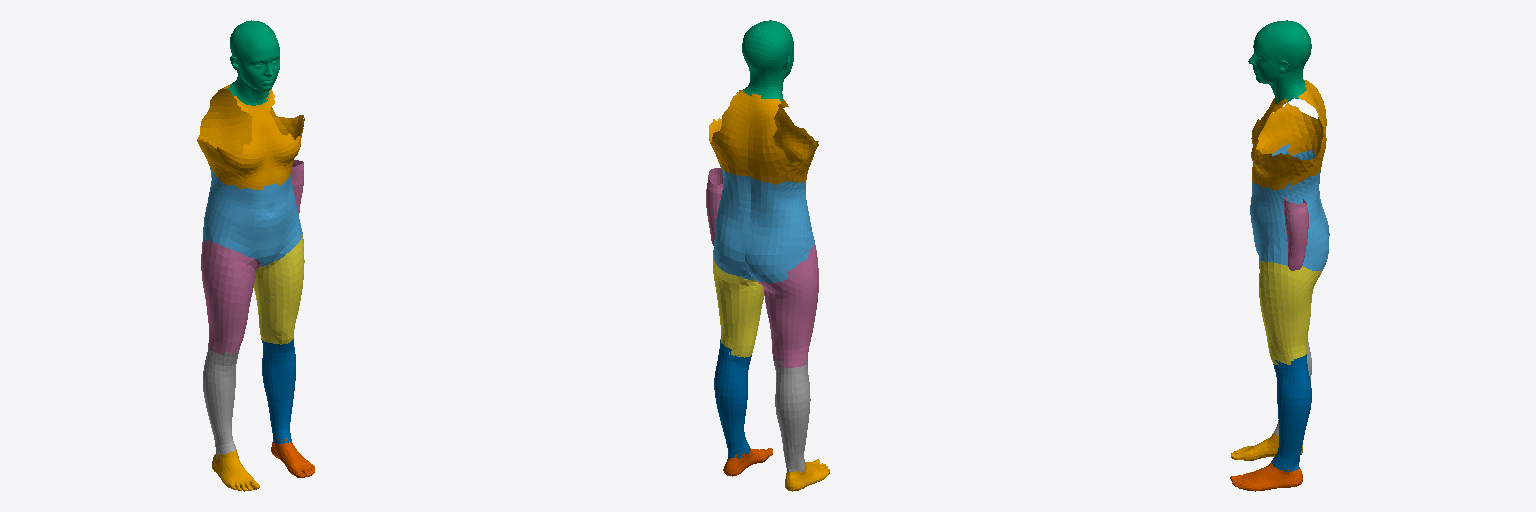
robot.urdf — soma_arms:
<robot name="soma_arms">
  <link name="Chest"><visual><geometry><mesh filename="meshes/Chest.obj"/></geometry></visual><collision><geometry><mesh filename="meshes/Chest.obj"/></geometry></collision></link>
  <link name="Abdomen"><visual><geometry><mesh filename="meshes/Abdomen.obj"/></geometry></visual><collision><geometry><mesh filename="meshes/Abdomen.obj"/></geometry></collision></link>
  <joint name="Chest_to_Abdomen" type="fixed"><parent link="Chest"/><child link="Abdomen"/><origin xyz="-0.000000 -0.008090 -0.144634" rpy="0.000000 0.000000 0.000000"/></joint>
  <link name="Head"><visual><geometry><mesh filename="meshes/Head.obj"/></geometry></visual><collision><geometry><mesh filename="meshes/Head.obj"/></geometry></collision></link>
  <joint name="Chest_to_Head" type="fixed"><parent link="Chest"/><child link="Head"/><origin xyz="-0.000182 0.006136 0.255394" rpy="0.000000 0.000000 0.000000"/></joint>
  <link name="LeftThigh"><visual><geometry><mesh filename="meshes/LeftThigh.obj"/></geometry></visual><collision><geometry><mesh filename="meshes/LeftThigh.obj"/></geometry></collision></link>
  <joint name="Chest_to_LeftThigh" type="fixed"><parent link="Chest"/><child link="LeftThigh"/><origin xyz="0.112505 -0.030271 -0.278192" rpy="0.000000 0.000000 0.000000"/></joint>
  <link name="LeftShin"><visual><geometry><mesh filename="meshes/LeftShin.obj"/></geometry></visual><collision><geometry><mesh filename="meshes/LeftShin.obj"/></geometry></collision></link>
  <joint name="Chest_to_LeftShin" type="fixed"><parent link="Chest"/><child link="LeftShin"/><origin xyz="0.112505 -0.030271 -0.685606" rpy="0.000000 0.000000 0.000000"/></joint>
  <link name="LeftFoot"><visual><geometry><mesh filename="meshes/LeftFoot.obj"/></geometry></visual><collision><geometry><mesh filename="meshes/LeftFoot.obj"/></geometry></collision></link>
  <joint name="Chest_to_LeftFoot" type="fixed"><parent link="Chest"/><child link="LeftFoot"/><origin xyz="0.112505 -0.030271 -1.080779" rpy="0.000000 0.000000 0.000000"/></joint>
  <link name="RightThigh"><visual><geometry><mesh filename="meshes/RightThigh.obj"/></geometry></visual><collision><geometry><mesh filename="meshes/RightThigh.obj"/></geometry></collision></link>
  <joint name="Chest_to_RightThigh" type="fixed"><parent link="Chest"/><child link="RightThigh"/><origin xyz="-0.112523 -0.029915 -0.278190" rpy="0.000000 0.000000 0.000000"/></joint>
  <link name="RightShin"><visual><geometry><mesh filename="meshes/RightShin.obj"/></geometry></visual><collision><geometry><mesh filename="meshes/RightShin.obj"/></geometry></collision></link>
  <joint name="Chest_to_RightShin" type="fixed"><parent link="Chest"/><child link="RightShin"/><origin xyz="-0.112523 -0.029915 -0.685605" rpy="0.000000 0.000000 0.000000"/></joint>
  <link name="RightFoot"><visual><geometry><mesh filename="meshes/RightFoot.obj"/></geometry></visual><collision><geometry><mesh filename="meshes/RightFoot.obj"/></geometry></collision></link>
  <joint name="Chest_to_RightFoot" type="fixed"><parent link="Chest"/><child link="RightFoot"/><origin xyz="-0.112523 -0.029915 -1.080774" rpy="0.000000 0.000000 0.000000"/></joint>
  <link name="LeftShoulder"><visual><geometry><mesh filename="meshes/LeftShoulder.obj"/></geometry></visual><collision><geometry><mesh filename="meshes/LeftShoulder.obj"/></geometry></collision></link>
  <joint name="LeftShoulder_fixed" type="fixed"><parent link="Chest"/><child link="LeftShoulder"/><origin xyz="0.017903 -0.050807 0.224135" rpy="0.000000 0.000000 0.000000"/></joint>
  <link name="LeftArm_p"/>
  <link name="LeftArm_r"/>
  <link name="LeftArm"><visual><geometry><mesh filename="meshes/LeftArm.obj"/></geometry></visual><collision><geometry><mesh filename="meshes/LeftArm.obj"/></geometry></collision></link>
  <joint name="Left_shoulder_pitch" type="revolute"><parent link="LeftShoulder"/><child link="LeftArm_p"/><origin xyz="0.149605 0.055173 0.000000" rpy="0.000000 1.570796 0.000000"/><axis xyz="0.000000 0.000000 1.000000"/><limit lower="-3.0" upper="3.0" effort="100" velocity="6.0"/></joint>
  <joint name="Left_shoulder_roll" type="revolute"><parent link="LeftArm_p"/><child link="LeftArm_r"/><origin xyz="0.000000 0.000000 0.000000" rpy="0.000000 0.000000 0.000000"/><axis xyz="0.000000 1.000000 0.000000"/><limit lower="-2.8" upper="2.8" effort="100" velocity="6.0"/></joint>
  <joint name="Left_shoulder_yaw" type="revolute"><parent link="LeftArm_r"/><child link="LeftArm"/><origin xyz="0.000000 0.000000 0.000000" rpy="0.000000 0.000000 0.000000"/><axis xyz="1.000000 0.000000 0.000000"/><limit lower="-1.6" upper="1.6" effort="100" velocity="6.0"/></joint>
  <link name="LeftForeArm_e"/>
  <link name="LeftForeArm"><visual><geometry><mesh filename="meshes/LeftForeArm.obj"/></geometry></visual><collision><geometry><mesh filename="meshes/LeftForeArm.obj"/></geometry></collision></link>
  <joint name="Left_elbow" type="revolute"><parent link="LeftArm"/><child link="LeftForeArm_e"/><origin xyz="0.274125 0.000000 0.000000" rpy="0.000000 0.000000 0.000000"/><axis xyz="0.000000 0.000000 -1.000000"/><limit lower="0.0" upper="2.6" effort="100" velocity="6.0"/></joint>
  <joint name="Left_forearm_twist" type="revolute"><parent link="LeftForeArm_e"/><child link="LeftForeArm"/><origin xyz="0.000000 0.000000 0.000000" rpy="0.000000 0.000000 0.000000"/><axis xyz="1.000000 0.000000 0.000000"/><limit lower="-1.6" upper="1.6" effort="100" velocity="6.0"/></joint>
  <link name="LeftHand_f"/>
  <link name="LeftHand"><visual><geometry><mesh filename="meshes/LeftHand.obj"/></geometry></visual><collision><geometry><mesh filename="meshes/LeftHand.obj"/></geometry></collision></link>
  <joint name="Left_wrist_flex" type="revolute"><parent link="LeftForeArm"/><child link="LeftHand_f"/><origin xyz="0.248509 0.000000 0.000000" rpy="0.000000 0.000000 0.000000"/><axis xyz="0.000000 1.000000 0.000000"/><limit lower="-1.2" upper="1.2" effort="100" velocity="6.0"/></joint>
  <joint name="Left_wrist_dev" type="revolute"><parent link="LeftHand_f"/><child link="LeftHand"/><origin xyz="0.000000 0.000000 0.000000" rpy="0.000000 0.000000 0.000000"/><axis xyz="0.000000 0.000000 1.000000"/><limit lower="-0.6" upper="0.6" effort="100" velocity="6.0"/></joint>
  <link name="RightShoulder"><visual><geometry><mesh filename="meshes/RightShoulder.obj"/></geometry></visual><collision><geometry><mesh filename="meshes/RightShoulder.obj"/></geometry></collision></link>
  <joint name="RightShoulder_fixed" type="fixed"><parent link="Chest"/><child link="RightShoulder"/><origin xyz="-0.019258 -0.050472 0.224100" rpy="0.000000 0.000000 0.000000"/></joint>
  <link name="RightArm_p"/>
  <link name="RightArm_r"/>
  <link name="RightArm"><visual><geometry><mesh filename="meshes/RightArm.obj"/></geometry></visual><collision><geometry><mesh filename="meshes/RightArm.obj"/></geometry></collision></link>
  <joint name="Right_shoulder_pitch" type="revolute"><parent link="RightShoulder"/><child link="RightArm_p"/><origin xyz="-0.149601 0.055172 0.000000" rpy="0.000000 -1.570796 0.000000"/><axis xyz="0.000000 0.000000 -1.000000"/><limit lower="-3.0" upper="3.0" effort="100" velocity="6.0"/></joint>
  <joint name="Right_shoulder_roll" type="revolute"><parent link="RightArm_p"/><child link="RightArm_r"/><origin xyz="0.000000 0.000000 0.000000" rpy="0.000000 0.000000 0.000000"/><axis xyz="0.000000 1.000000 0.000000"/><limit lower="-2.8" upper="2.8" effort="100" velocity="6.0"/></joint>
  <joint name="Right_shoulder_yaw" type="revolute"><parent link="RightArm_r"/><child link="RightArm"/><origin xyz="0.000000 0.000000 0.000000" rpy="0.000000 0.000000 0.000000"/><axis xyz="-1.000000 0.000000 0.000000"/><limit lower="-1.6" upper="1.6" effort="100" velocity="6.0"/></joint>
  <link name="RightForeArm_e"/>
  <link name="RightForeArm"><visual><geometry><mesh filename="meshes/RightForeArm.obj"/></geometry></visual><collision><geometry><mesh filename="meshes/RightForeArm.obj"/></geometry></collision></link>
  <joint name="Right_elbow" type="revolute"><parent link="RightArm"/><child link="RightForeArm_e"/><origin xyz="-0.274026 0.000000 0.000000" rpy="0.000000 0.000000 0.000000"/><axis xyz="0.000000 0.000000 1.000000"/><limit lower="0.0" upper="2.6" effort="100" velocity="6.0"/></joint>
  <joint name="Right_forearm_twist" type="revolute"><parent link="RightForeArm_e"/><child link="RightForeArm"/><origin xyz="0.000000 0.000000 0.000000" rpy="0.000000 0.000000 0.000000"/><axis xyz="-1.000000 0.000000 0.000000"/><limit lower="-1.6" upper="1.6" effort="100" velocity="6.0"/></joint>
  <link name="RightHand_f"/>
  <link name="RightHand"><visual><geometry><mesh filename="meshes/RightPalm.obj"/></geometry></visual><collision><geometry><mesh filename="meshes/RightHand.obj"/></geometry></collision></link>
  <joint name="Right_wrist_flex" type="revolute"><parent link="RightForeArm"/><child link="RightHand_f"/><origin xyz="-0.248608 0.000000 -0.000000" rpy="0.000000 0.000000 0.000000"/><axis xyz="0.000000 -1.000000 0.000000"/><limit lower="-1.2" upper="1.2" effort="100" velocity="6.0"/></joint>
  <joint name="Right_wrist_dev" type="revolute"><parent link="RightHand_f"/><child link="RightHand"/><origin xyz="0.000000 0.000000 0.000000" rpy="0.000000 0.000000 0.000000"/><axis xyz="0.000000 0.000000 1.000000"/><limit lower="-0.6" upper="0.6" effort="100" velocity="6.0"/></joint>
</robot>

--- What the picture shows (computed from the rendered views, not written in the file) ---
3 views of the same robot in one strip: view 1: azimuth 30°, elevation 25°; view 2: azimuth 150°, elevation 25°; view 3: azimuth 270°, elevation 25° (orthographic).
Robot: soma_arms — 25 links, 24 joints (14 revolute, 10 fixed); root link Chest; default pose: every joint at zero.
Visible links, largest first — view 1: Chest, Abdomen, RightThigh, LeftThigh, Head, RightShin, LeftShin, RightFoot, LeftFoot; view 2: Abdomen, Chest, RightThigh, Head, LeftThigh, RightShin, LeftShin, RightFoot, LeftForeArm, LeftFoot; view 3: Chest, Abdomen, LeftThigh, Head, LeftShin, LeftForeArm, LeftFoot, RightFoot.
Link boxes in pixels (x1,y1,x2,y2): Chest: (197, 84, 304, 189); Abdomen: (203, 152, 302, 266); RightThigh: (201, 240, 261, 355); LeftThigh: (254, 234, 304, 344); Head: (227, 20, 279, 105); RightShin: (203, 346, 239, 457); LeftShin: (261, 339, 295, 443); RightFoot: (212, 450, 259, 491); LeftFoot: (271, 438, 314, 477); Abdomen: (713, 165, 814, 282); Chest: (709, 90, 818, 184); RightThigh: (758, 244, 818, 367); Head: (739, 20, 793, 100); LeftThigh: (713, 253, 764, 357); RightShin: (773, 357, 810, 472); LeftShin: (714, 340, 751, 459); RightFoot: (785, 459, 829, 491); LeftForeArm: (706, 168, 722, 245); LeftFoot: (723, 448, 772, 476); Chest: (1251, 79, 1326, 190); Abdomen: (1250, 143, 1329, 270); LeftThigh: (1259, 261, 1322, 364); Head: (1248, 20, 1311, 103); LeftShin: (1272, 354, 1311, 471); LeftForeArm: (1284, 197, 1308, 270); LeftFoot: (1230, 458, 1302, 491); RightFoot: (1231, 433, 1302, 460).
Size in the robot's own frame: 0.4192 by 0.3399 by 1.7 metres.
10 mesh visuals loaded from 17 distinct referenced files (10 OBJ); not drawn: 7 (reference not matched to a file when rendering).
